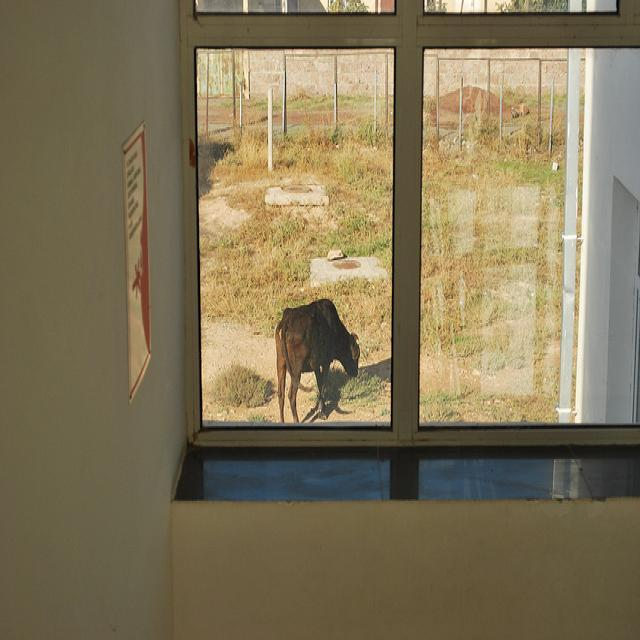cow: (274, 296, 359, 420)
